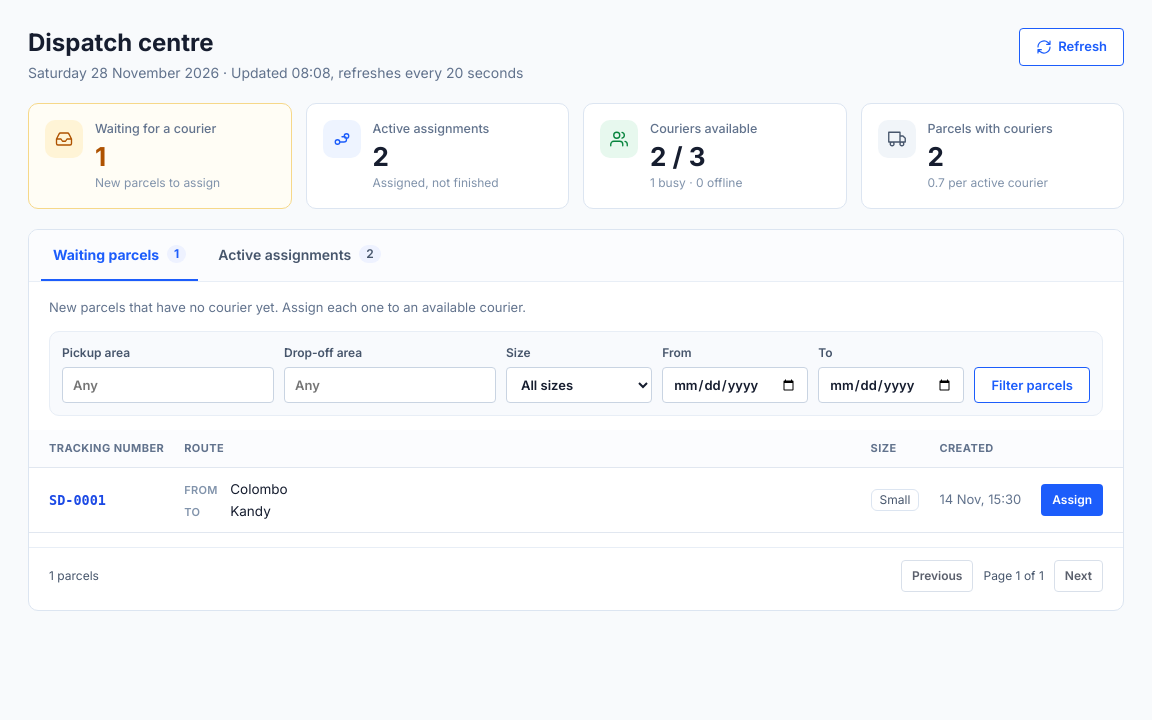
DispatcherDashboardPage › shows the server message when an assignment is refused
Click the button with aria-label "Assign SD-0001" at x=1072, y=500, box [1041,484,1103,516]
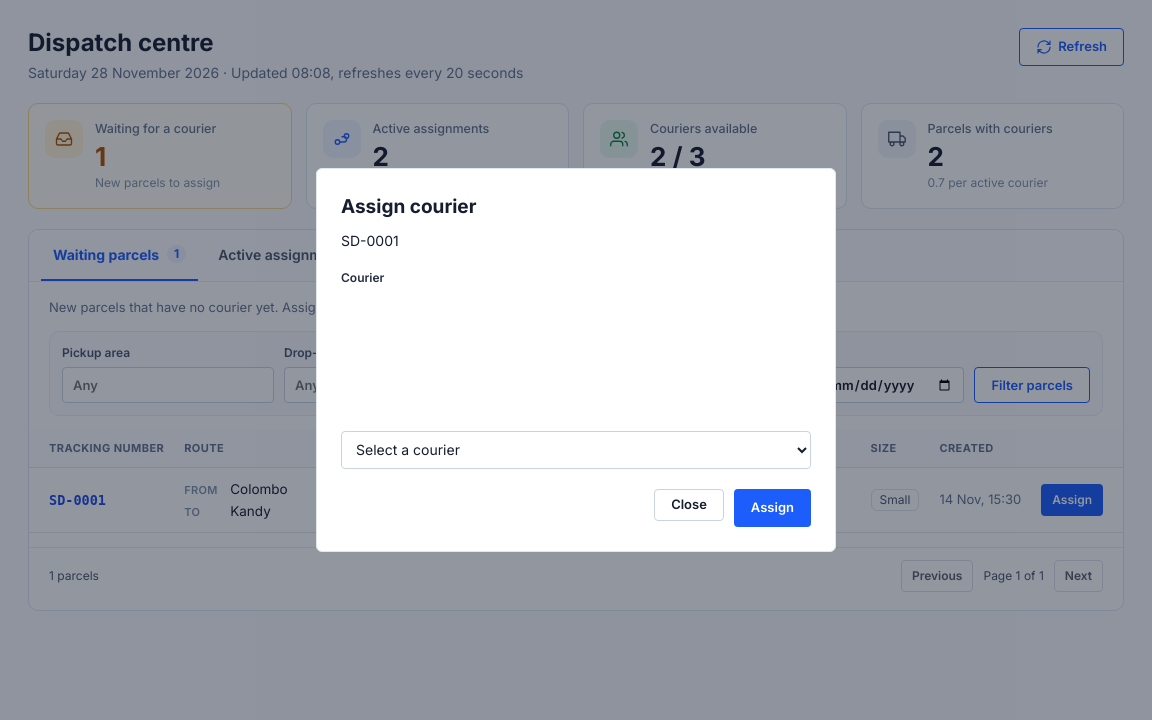
Select "Amal · 2 active · Available" in the dropdown labelled "Courier" at x=576, y=450, box [341,431,811,469]
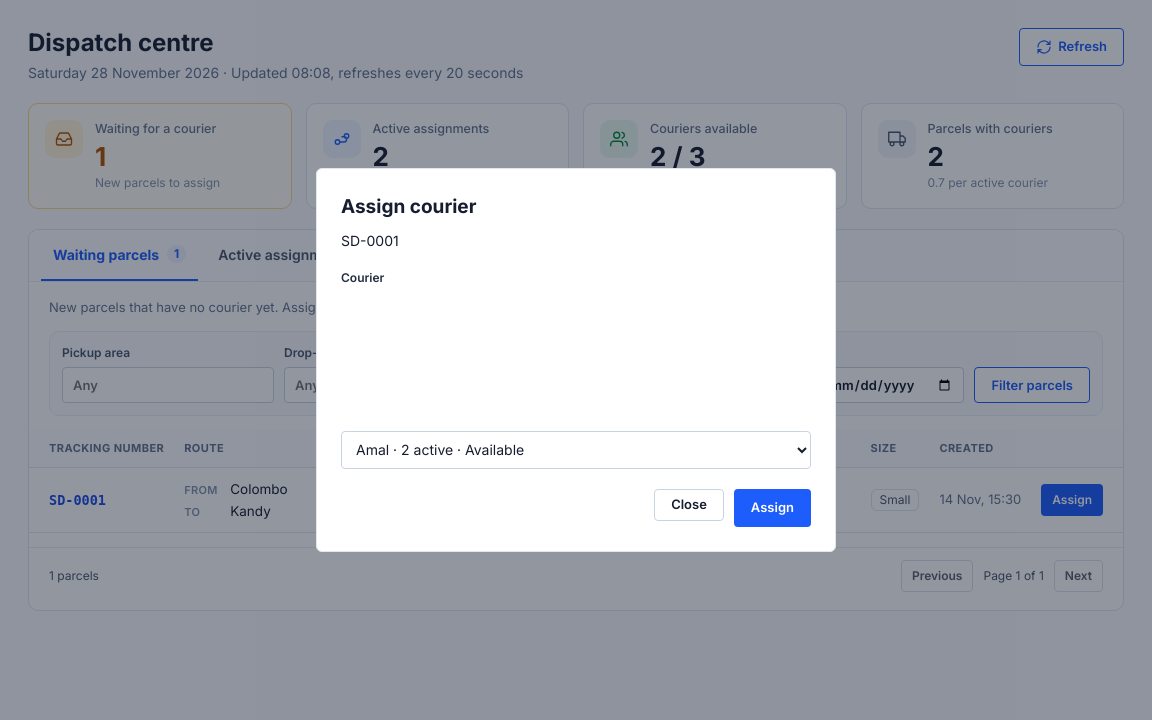
Click the button "Assign" at x=772, y=508, box [734,489,811,527]
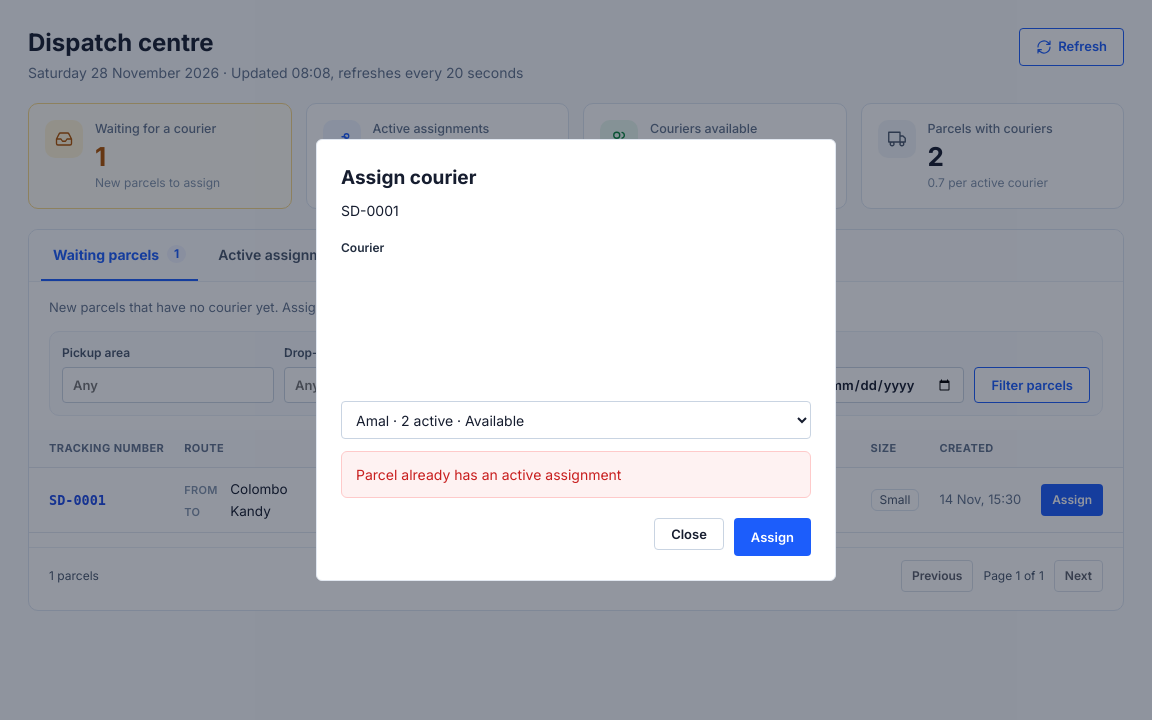
Now the message reads "Parcel already has an active assignment", box [356,466,622,483]
